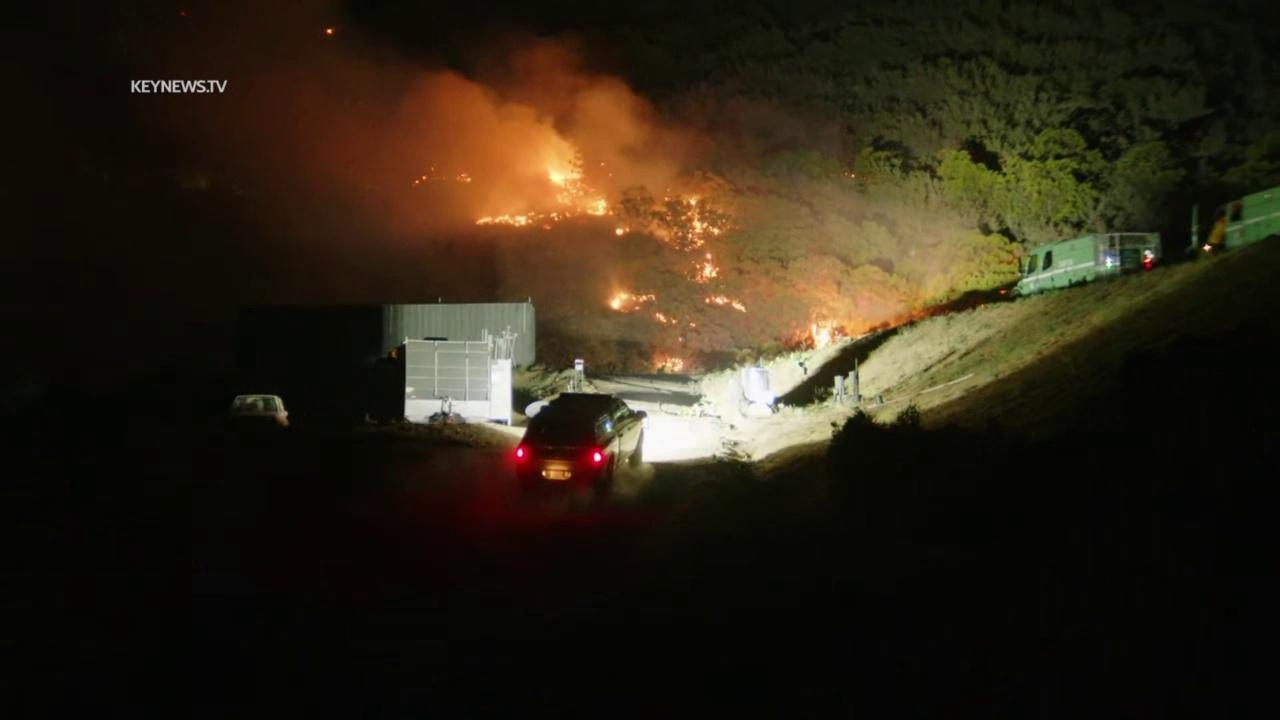fire: (546, 160, 614, 221), (681, 195, 722, 251), (606, 289, 655, 314), (808, 317, 844, 347), (695, 252, 722, 286), (475, 211, 536, 226), (703, 294, 748, 313), (650, 352, 685, 373), (456, 170, 472, 185), (615, 225, 631, 236), (655, 311, 667, 324), (670, 317, 679, 325), (325, 28, 335, 35), (689, 322, 697, 328), (677, 336, 683, 343), (421, 175, 427, 180), (415, 180, 419, 185)
smoke: (122, 0, 988, 348)
